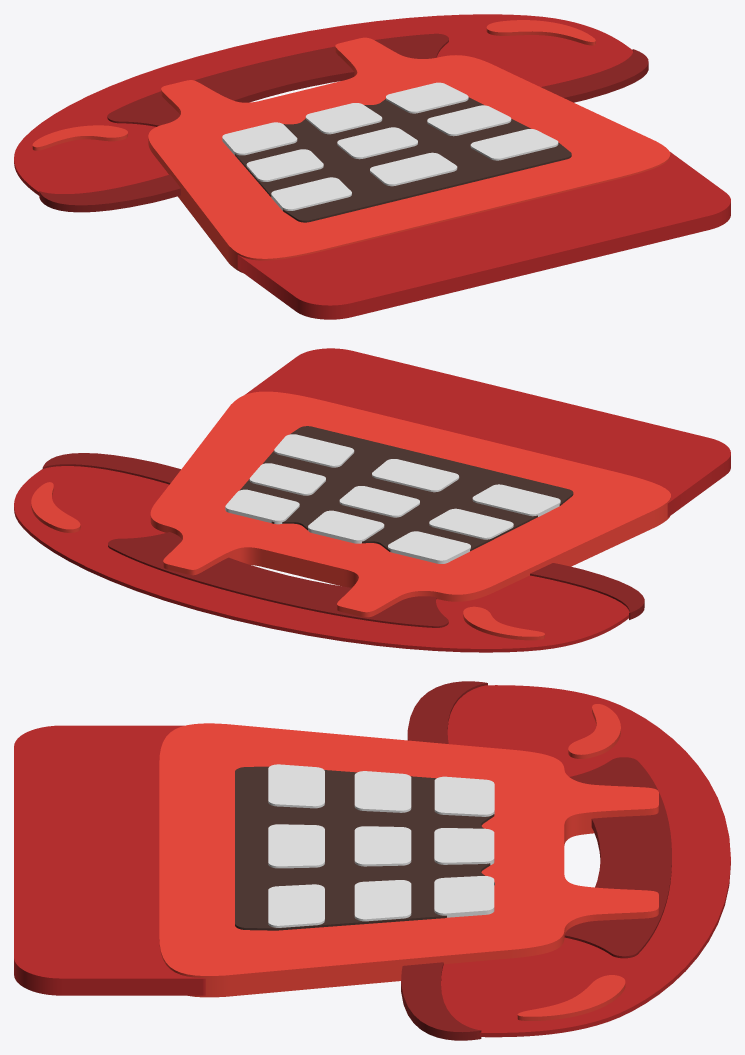
Rendered from emoji_u260e.glb.
3 views of the same model, one above another, from view 1: azimuth 30°, elevation 25°; view 2: azimuth 150°, elevation 25°; view 3: azimuth 270°, elevation 25° (orthographic). The views are drawn at different scales.
Parts seen in each view (by area): view 1: emoji_u260e; view 2: emoji_u260e; view 3: emoji_u260e.
Part boxes in pixels (x1,y1,x2,y2): emoji_u260e: (14, 14, 730, 319); emoji_u260e: (14, 348, 730, 652); emoji_u260e: (14, 681, 730, 1040).
Size of the model in its own units: 0.0352 by 0.0014 by 0.0304.
